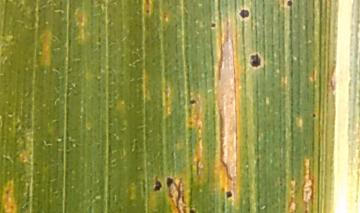tarspot: (247, 53, 262, 67), (152, 176, 163, 195), (239, 7, 250, 19), (165, 175, 174, 189), (225, 190, 234, 200), (188, 98, 198, 106), (285, 1, 295, 8), (209, 21, 217, 29), (188, 207, 198, 213), (311, 112, 316, 118)
